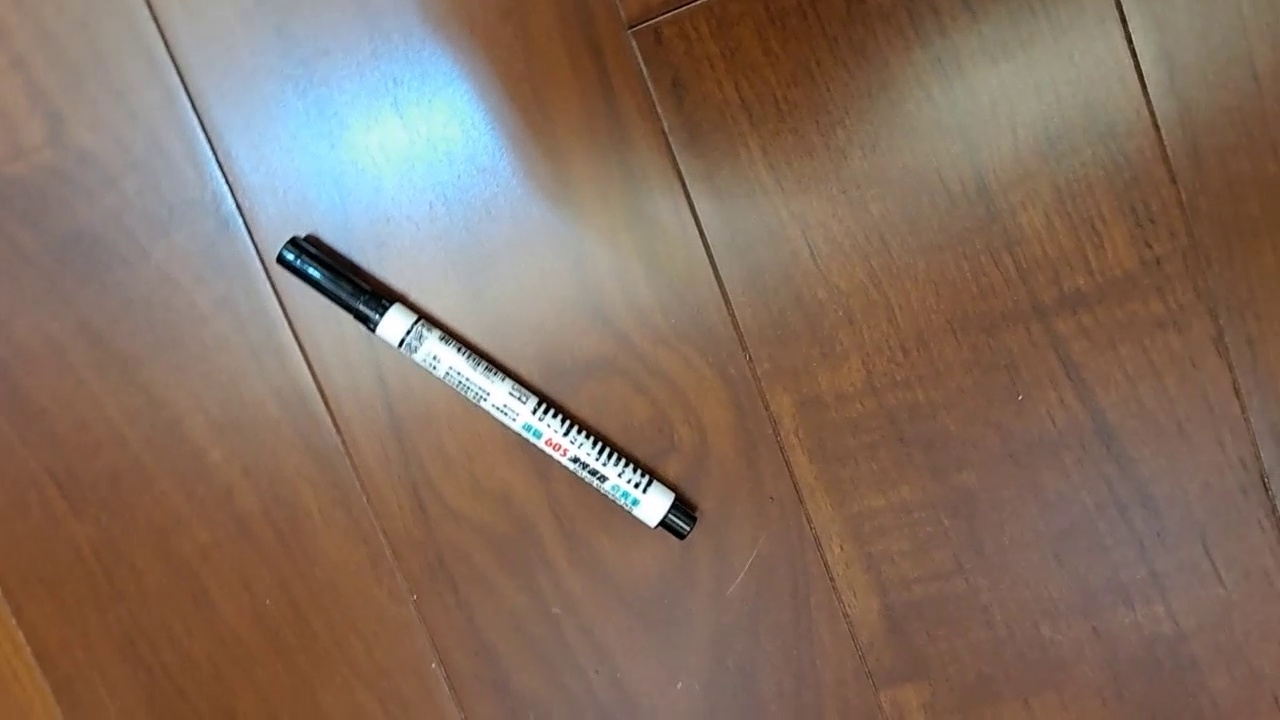pen: (275, 234, 699, 542)
